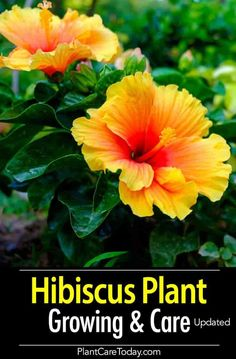Hibiscus: (67, 70, 234, 218), (3, 5, 120, 79)
